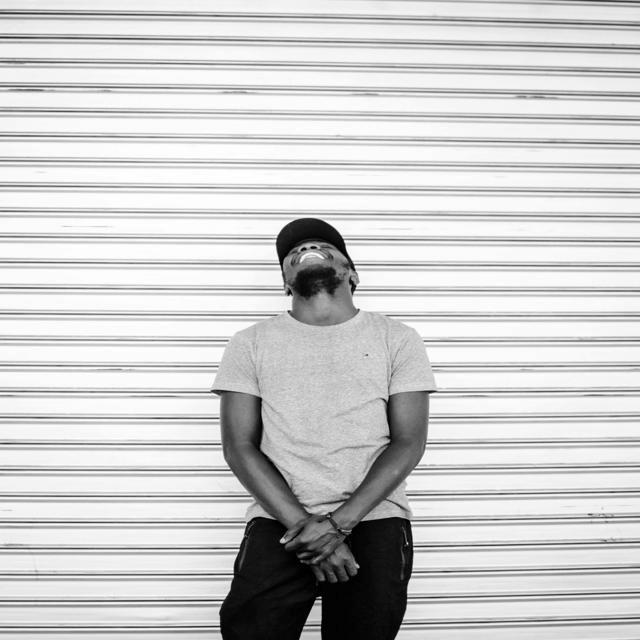Happiness: (275, 235, 357, 298)
